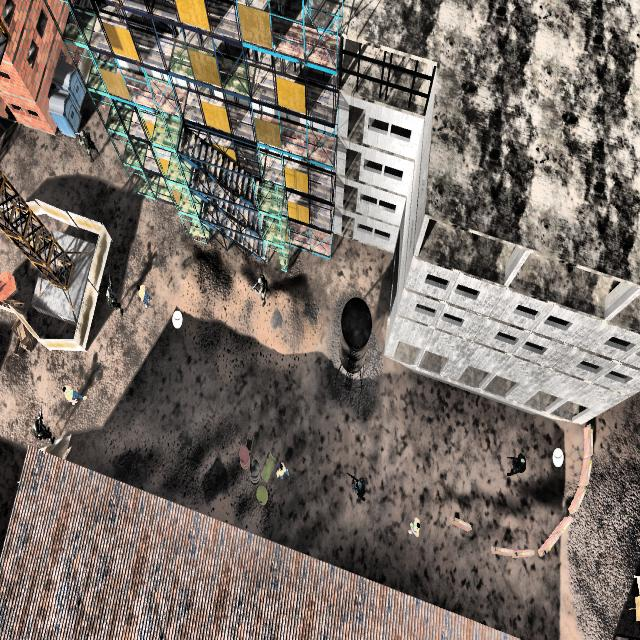bad: (29, 400, 58, 452), (346, 461, 373, 508), (74, 119, 100, 167), (100, 277, 126, 323), (251, 264, 271, 312), (507, 445, 530, 482)
good: (60, 379, 88, 412), (403, 512, 423, 547), (271, 456, 292, 486), (134, 277, 150, 315)
